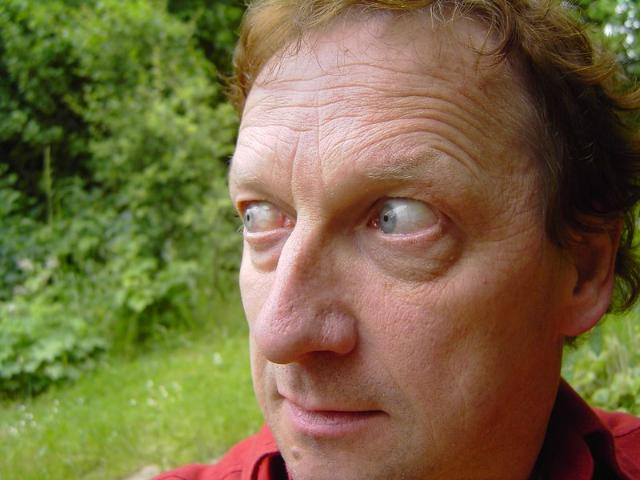forehead: (399, 118, 455, 152), (246, 115, 312, 143), (398, 89, 468, 115), (353, 54, 407, 82), (435, 143, 481, 171), (266, 96, 328, 116), (334, 106, 366, 140), (280, 73, 328, 90)
frown_line: (278, 154, 300, 190)
